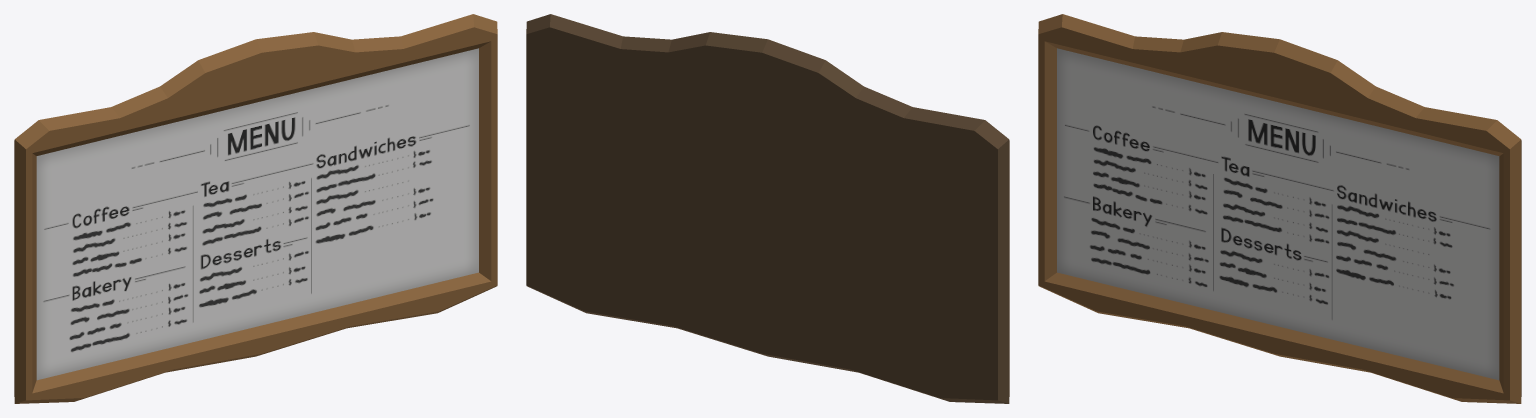
File: menu_big_painting.fbx
3 views of the same model, side by side, from view 1: azimuth 30°, elevation 25°; view 2: azimuth 150°, elevation 25°; view 3: azimuth 330°, elevation 25° (orthographic).
Parts seen in each view (by area): view 1: menu_big_painting; view 2: menu_big_painting; view 3: menu_big_painting.
Part boxes in pixels (x1,y1,x2,y2): menu_big_painting: (14,14,497,403); menu_big_painting: (526,14,1009,403); menu_big_painting: (1038,14,1521,403).
Bounding box in the file's own units: 147 × 92.92 × 6.19.
